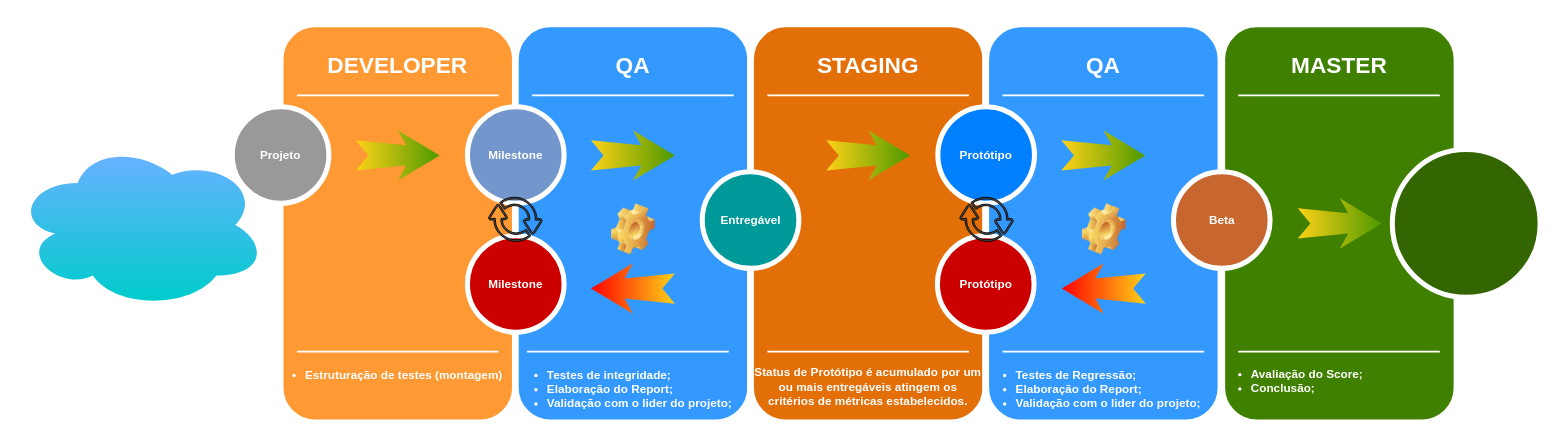
Some shapes in this 1557 by 440 pixel diagram are drawn without their labels. The centre of each missing label's shape, as x and y in pixels:
Escopo do projeto Definição de requisitos; Definição de objetivos;: the point at 140,225
Produto: the point at 1465,223
